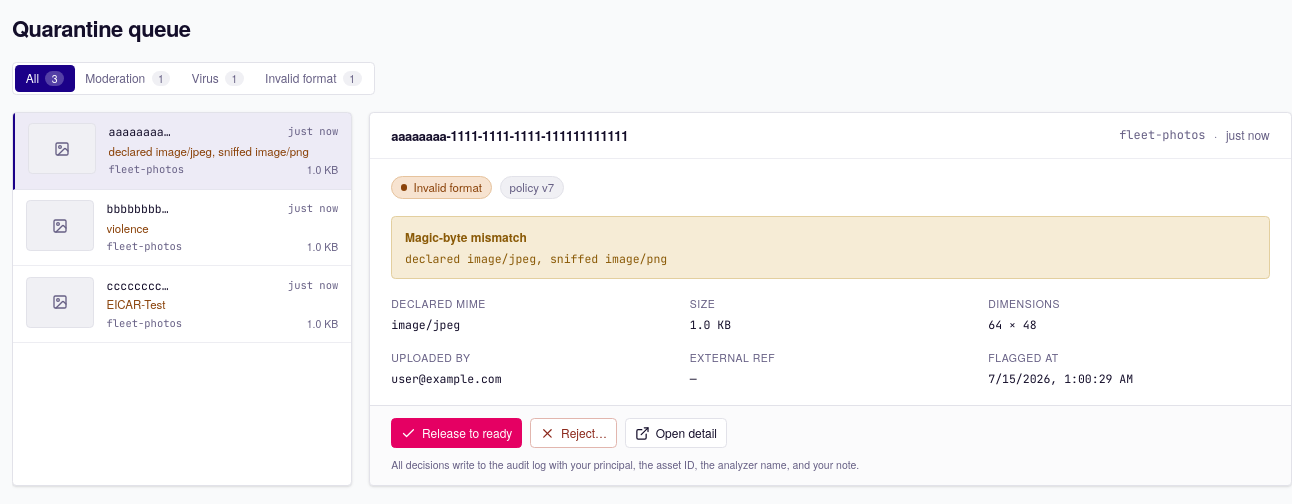
Test case: QuarantinePage › filters to invalid_format items when that tab is clicked
This screenshot has width=1292, height=504.
Click the button "Invalid format 1".
click(313, 78)  # box [254, 65, 372, 92]
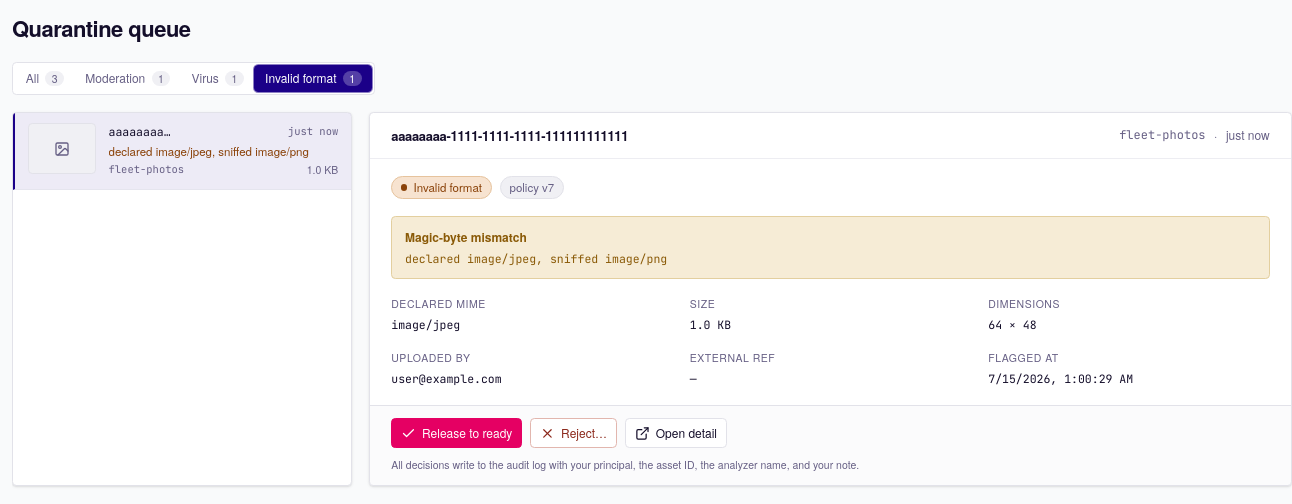
Expected: the text "aaaaaaaa…" is shown, [108, 123, 171, 141]
Result: the button "bbbbbbbb…" is gone
Result: the button "cccccccc…" is gone
